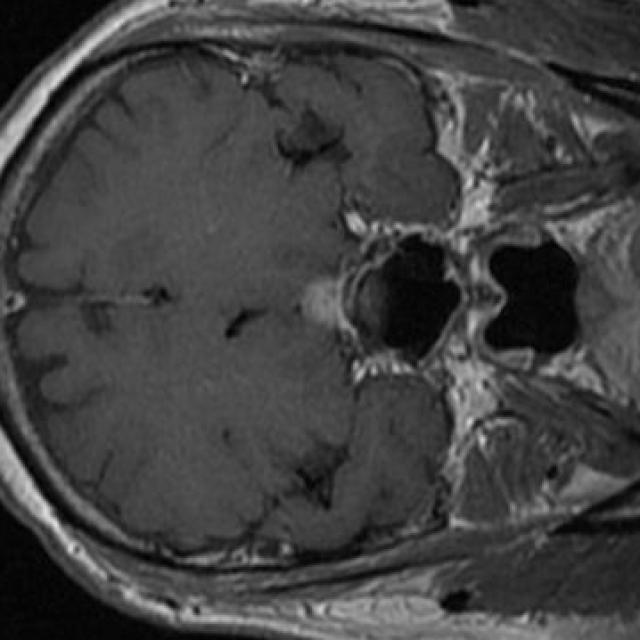pituitary: (303, 276, 387, 332)
